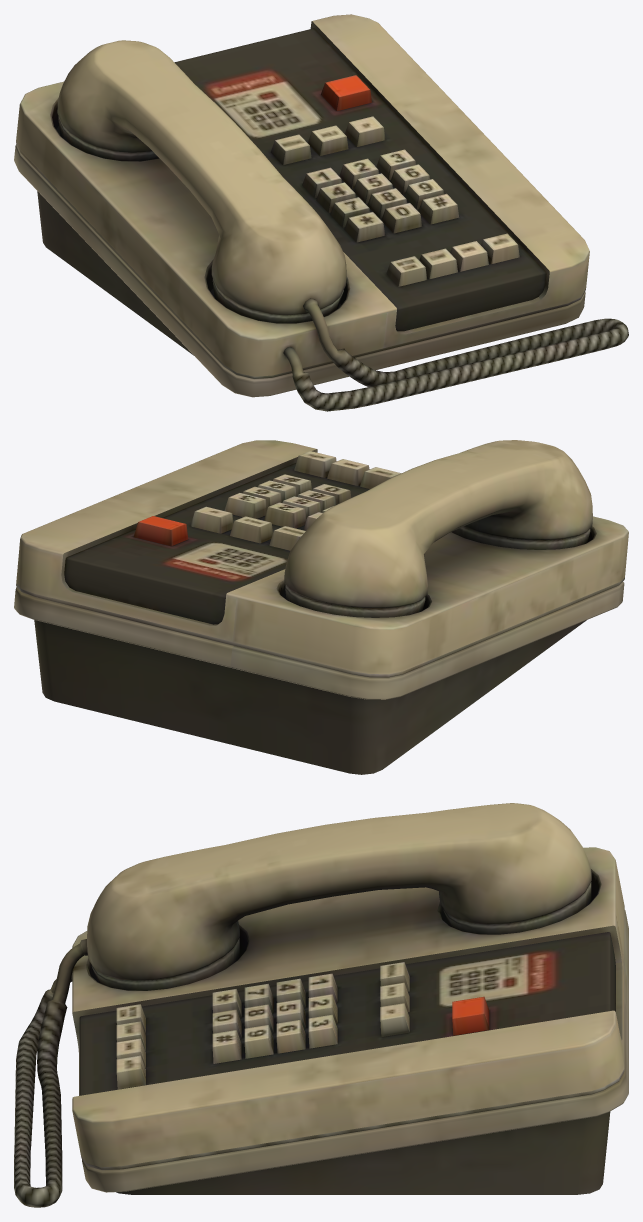
File: phone-alt.glb
3 renders of one model, top to bottom at view 1: azimuth 30°, elevation 25°; view 2: azimuth 150°, elevation 25°; view 3: azimuth 270°, elevation 25°, orthographic. The views are drawn at different scales.
Visible parts, largest first — view 1: phone_base, phone_handset; view 2: phone_base, phone_handset; view 3: phone_base, phone_handset.
Boxes of the visible parts, left/top/right/bottom form: phone_base: left=14, top=14, right=628, bottom=411; phone_handset: left=20, top=40, right=396, bottom=340; phone_base: left=14, top=440, right=628, bottom=774; phone_handset: left=226, top=440, right=628, bottom=629; phone_base: left=14, top=860, right=628, bottom=1207; phone_handset: left=72, top=803, right=615, bottom=1013.
Bounding box in the file's own units: 0.184 × 0.0979 × 0.235.
Materials: 1 (1 with a texture image).
